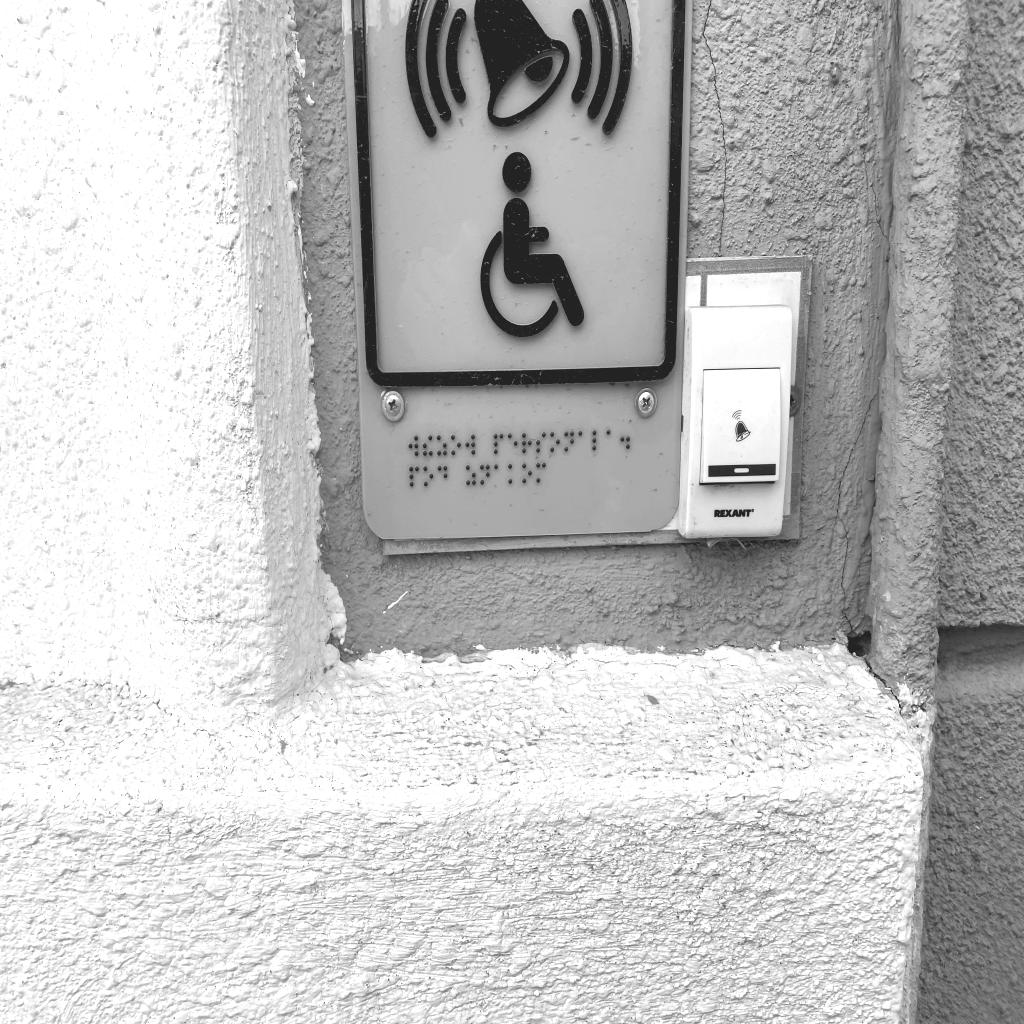_n: (563, 430, 575, 453), (480, 464, 490, 485)
a: (578, 430, 588, 453), (606, 429, 616, 451), (494, 464, 504, 484)
d: (437, 465, 448, 487)
e: (507, 433, 518, 455)
ii: (422, 435, 433, 457)
k: (508, 463, 518, 485)
l: (592, 429, 603, 452)
m: (536, 462, 547, 484)
o: (451, 434, 462, 456), (423, 465, 434, 487), (550, 431, 560, 453), (522, 463, 532, 484)
p: (493, 433, 504, 455), (409, 465, 420, 487)
r: (521, 432, 532, 454)
s: (535, 431, 547, 454)
tochka: (620, 428, 630, 450)
v: (408, 434, 419, 457), (465, 434, 476, 455)
z: (436, 434, 447, 456), (466, 464, 476, 486)
